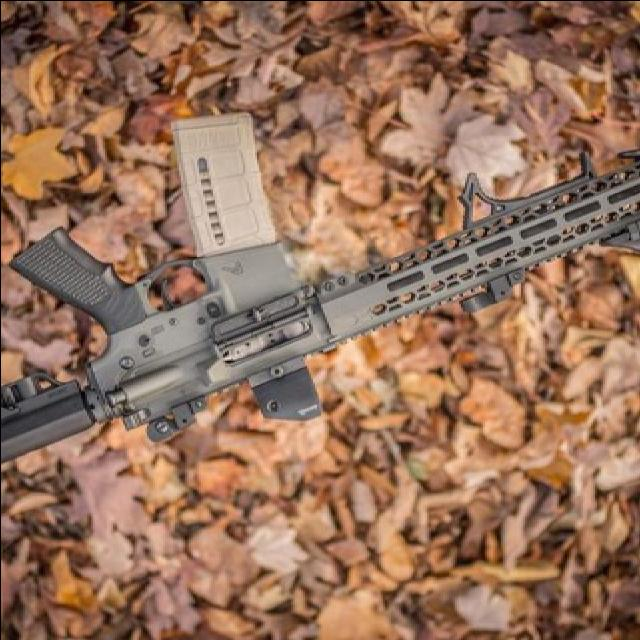rifle: (1, 114, 639, 498)
